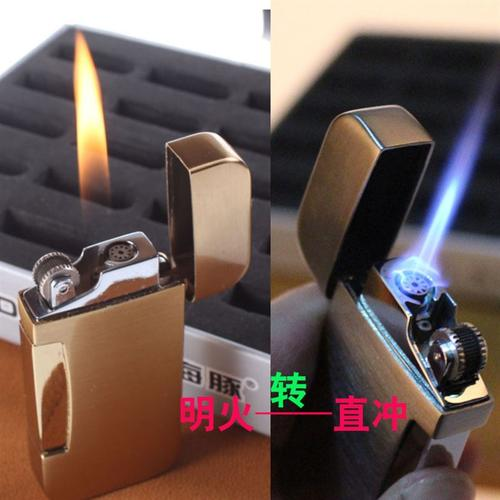fire: (406, 86, 487, 302), (65, 25, 131, 238)
